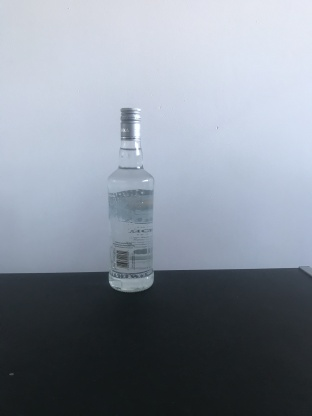nakretka: (118, 104, 143, 142)
